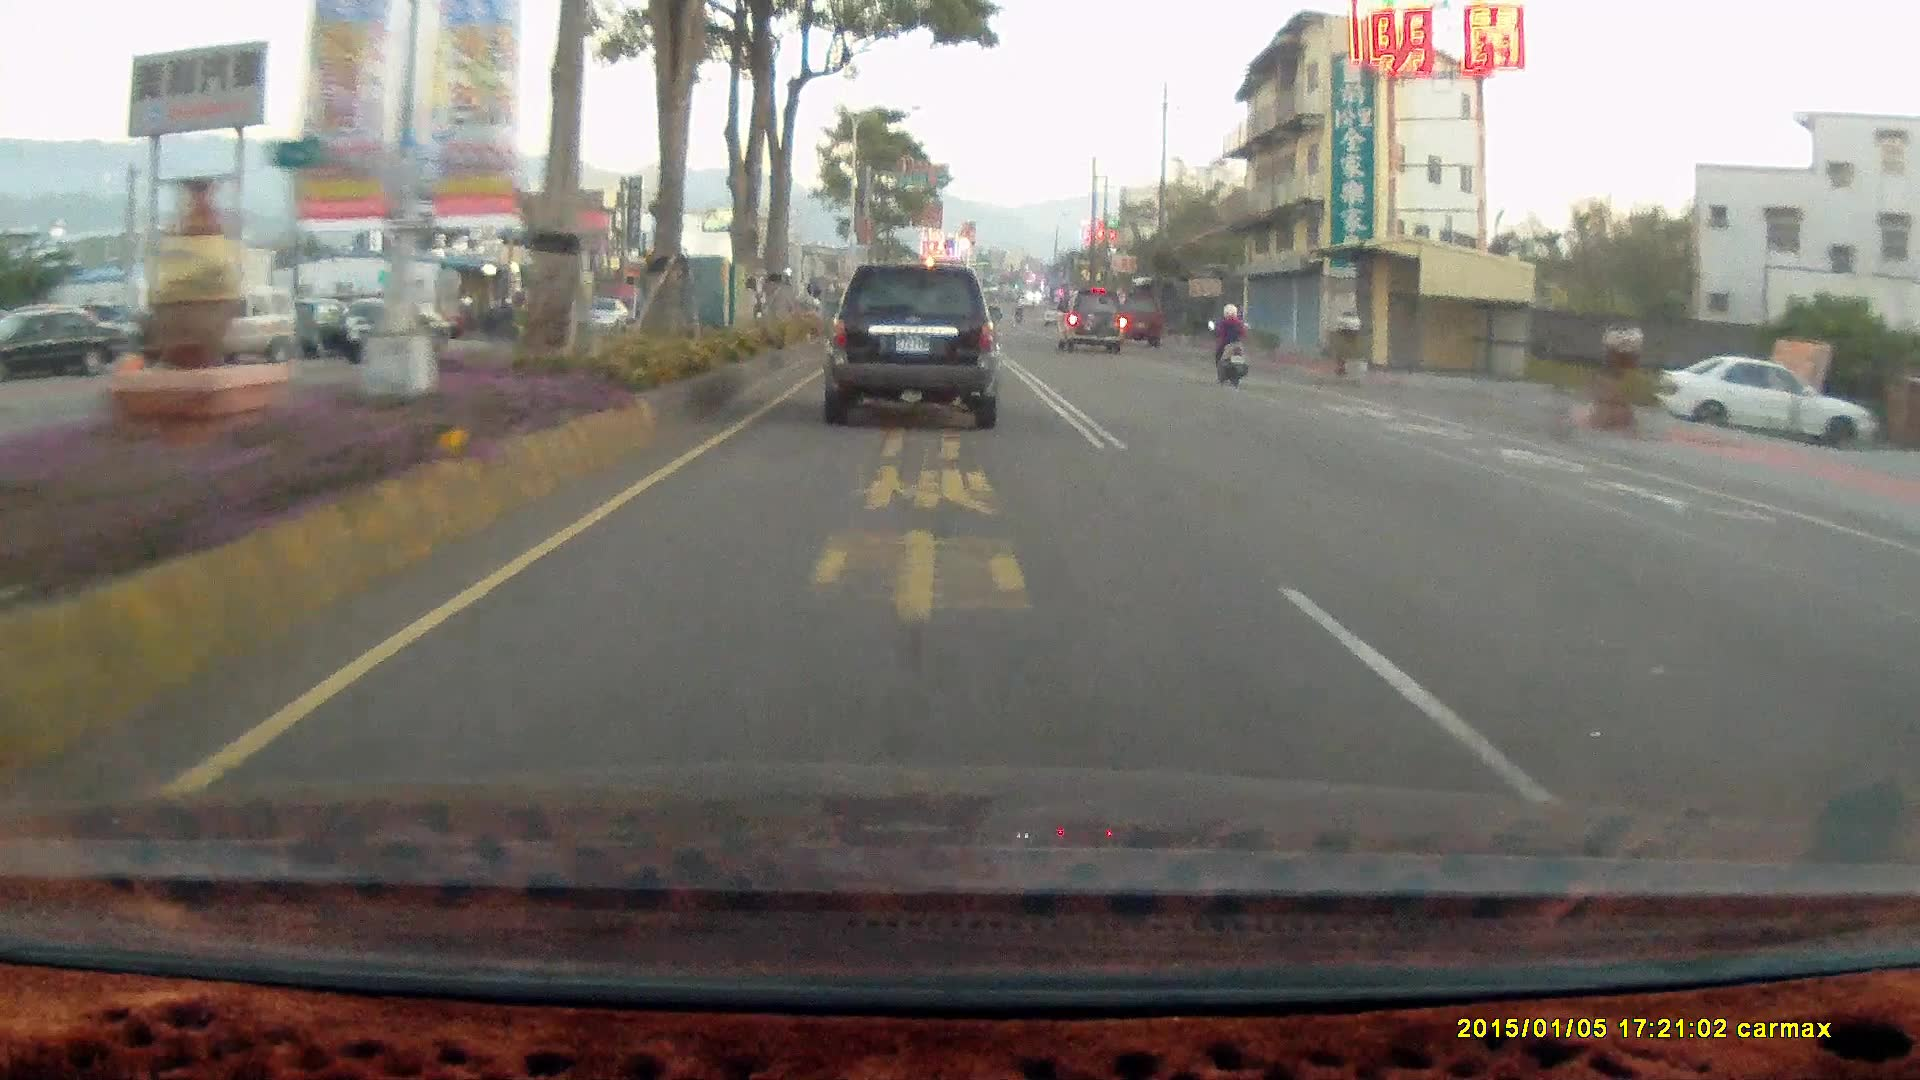rider: (1201, 296, 1260, 395), (1206, 300, 1249, 383)
vehicle: (816, 257, 1007, 430), (822, 264, 1002, 429), (1652, 352, 1876, 450), (1661, 355, 1874, 450), (146, 288, 304, 370), (142, 287, 299, 365), (1, 306, 139, 387), (339, 305, 454, 366), (1059, 292, 1129, 359), (1054, 287, 1125, 353), (1112, 291, 1162, 346)
